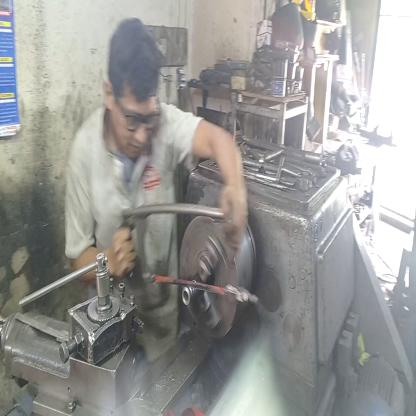lentes: (112, 88, 163, 138)
